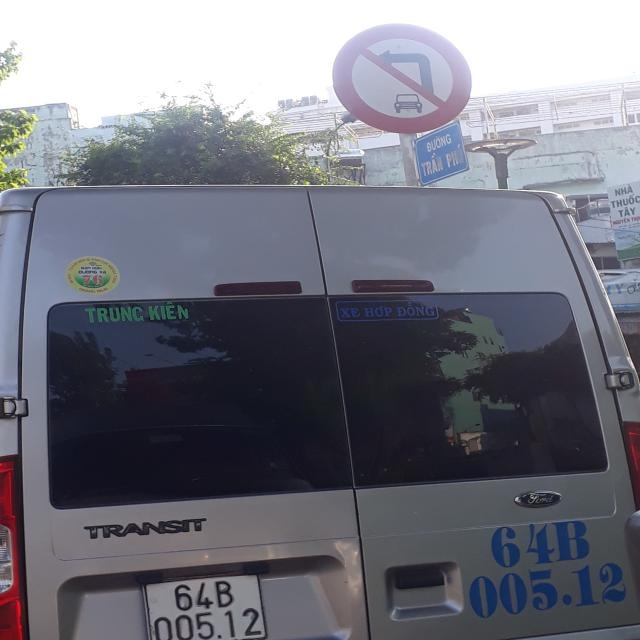bien_cam: (329, 22, 473, 136)
